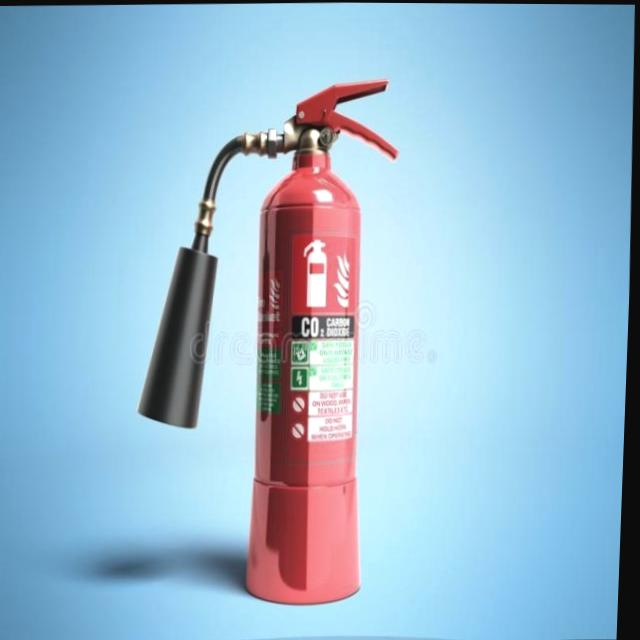FireExtinguisher: (124, 66, 414, 612)
